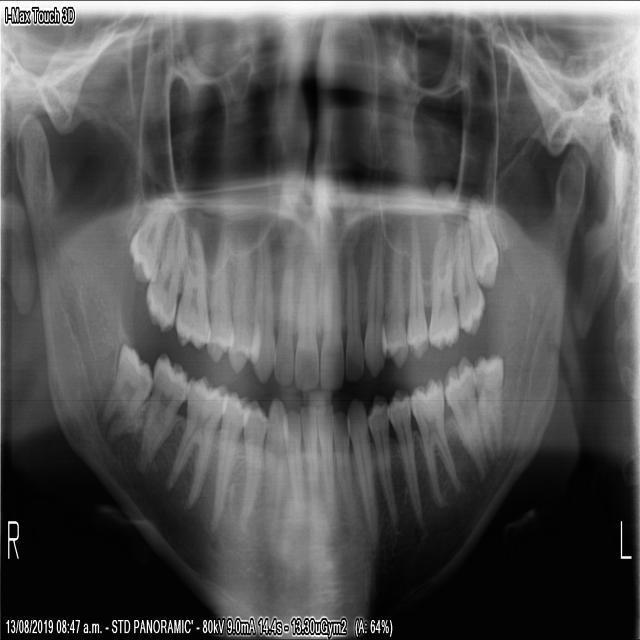LCD: (344, 394, 378, 550)
LCU: (361, 226, 386, 379)
LID: (330, 408, 356, 529), (314, 400, 336, 529)
LIU: (318, 252, 343, 391), (343, 244, 364, 382)
LMD: (408, 373, 459, 509), (441, 352, 488, 477), (470, 348, 503, 461)
LMU: (425, 221, 459, 351), (453, 215, 486, 337), (467, 191, 500, 290)
LPMD: (384, 388, 422, 532), (364, 396, 397, 532)
LPMU: (378, 224, 408, 372), (404, 216, 428, 363)
RCD: (261, 394, 287, 557)
RCU: (248, 222, 275, 385)
RID: (279, 404, 304, 541), (298, 402, 317, 532)
RIU: (292, 254, 319, 391), (271, 247, 293, 387)
RMD: (165, 371, 228, 511), (134, 349, 190, 472), (98, 338, 151, 440)
RMU: (143, 208, 187, 334), (172, 222, 212, 352), (126, 195, 177, 286)
RPMD: (207, 388, 251, 533), (238, 396, 268, 532)
RPMU: (225, 229, 262, 374), (203, 226, 234, 364)
